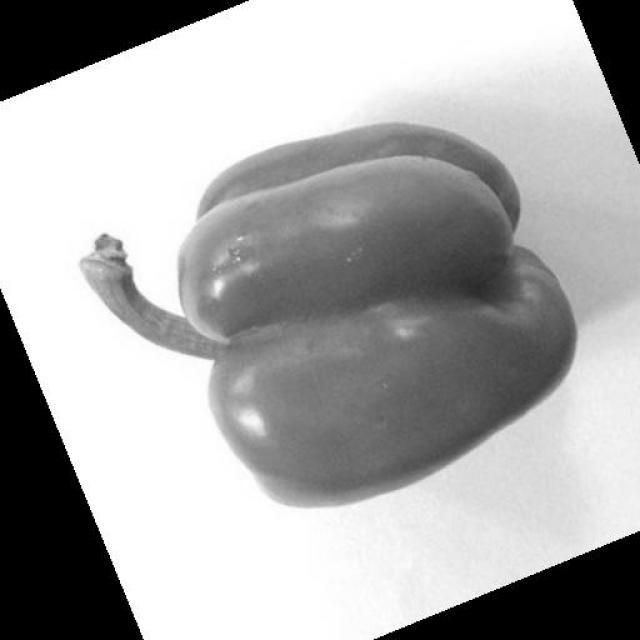Fresh_Capsicum: (116, 158, 564, 532)
